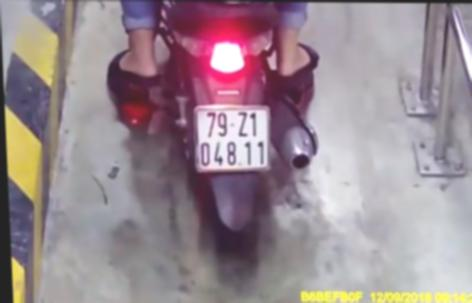License_Plate: (184, 100, 278, 180)
